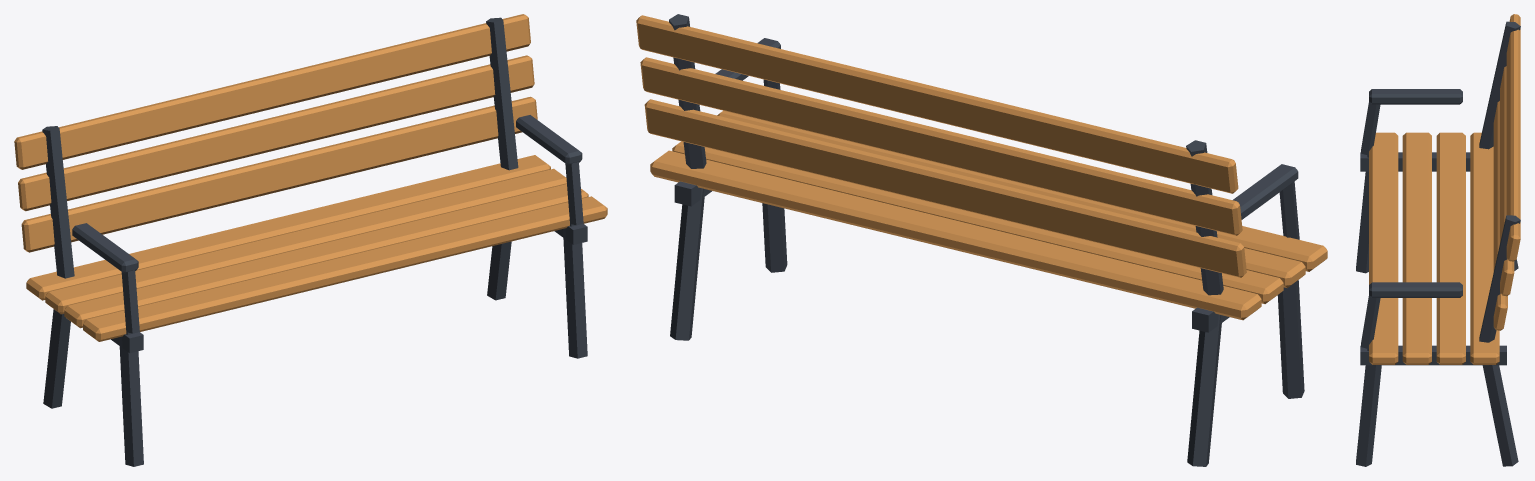
File: banco_praca.glb
3 views of the same model, side by side, from view 1: azimuth 30°, elevation 25°; view 2: azimuth 150°, elevation 25°; view 3: azimuth 270°, elevation 25° (orthographic). The views are drawn at different scales.
Parts seen in each view (by area): view 1: banco_praca; view 2: banco_praca; view 3: banco_praca.
Part boxes in pixels (x1,y1,x2,y2): banco_praca: [14, 14, 607, 466]; banco_praca: [636, 14, 1327, 466]; banco_praca: [1356, 14, 1520, 466].
Bounding box in the file's own units: 1.8 × 0.9288 × 0.5616.
Materials: 1 (1 with a texture image).
